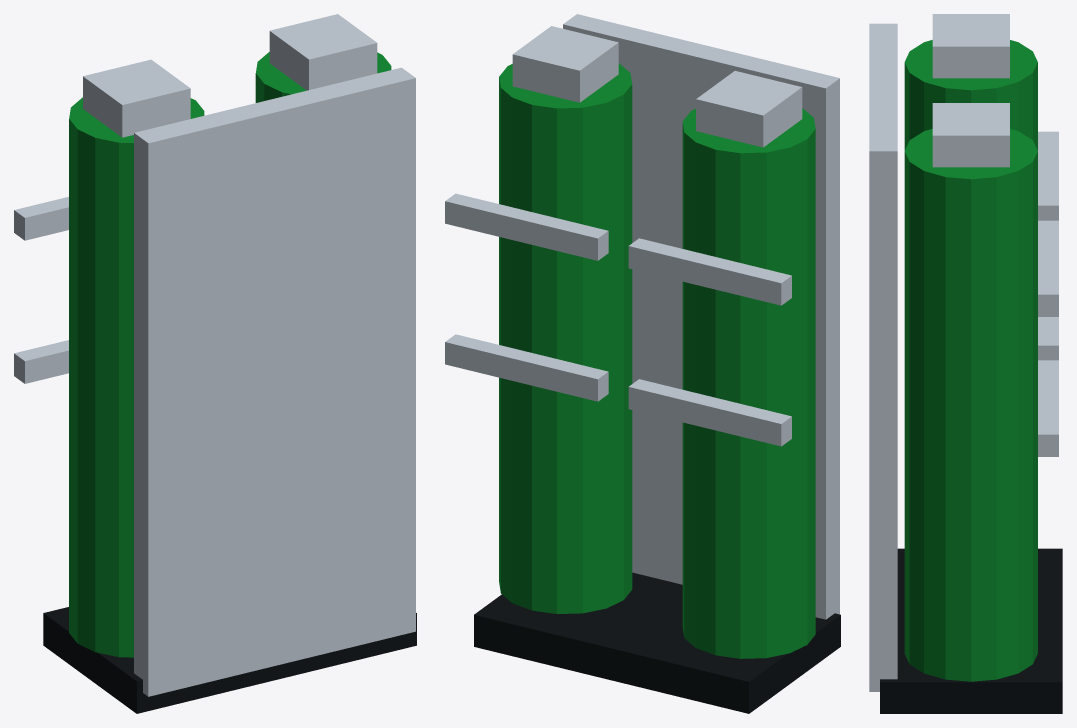
The model's file is oxygen_cylinders_proxy.obj.
3 renders of one model, left to right at view 1: azimuth 30°, elevation 25°; view 2: azimuth 150°, elevation 25°; view 3: azimuth 270°, elevation 25°, orthographic. The views are drawn at different scales.
Parts seen in each view (by area): view 1: oxygen_cylinders_proxy; view 2: oxygen_cylinders_proxy; view 3: oxygen_cylinders_proxy.
Part boxes in pixels (x1,y1,x2,y2): oxygen_cylinders_proxy: (14,14,416,713); oxygen_cylinders_proxy: (445,14,840,713); oxygen_cylinders_proxy: (869,14,1062,713).
Bounding box in the file's own units: 1.1 × 1.8 × 0.55.
